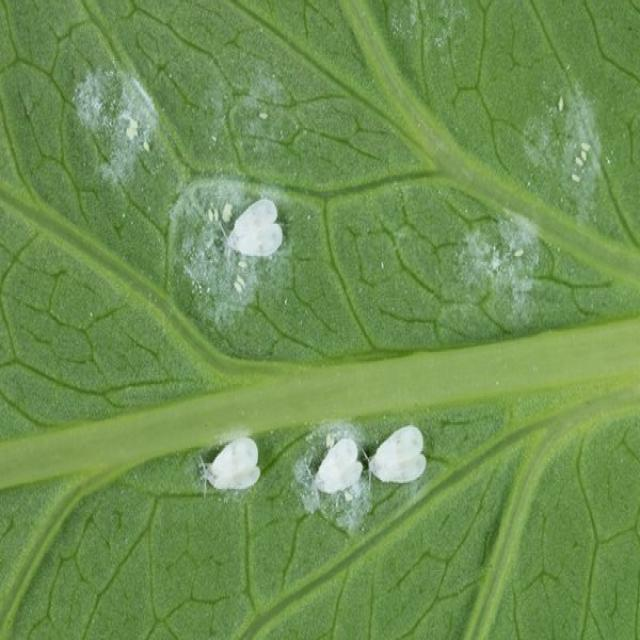whiteflies: (189, 430, 275, 518), (213, 193, 299, 279), (292, 423, 368, 510), (359, 420, 431, 490)
